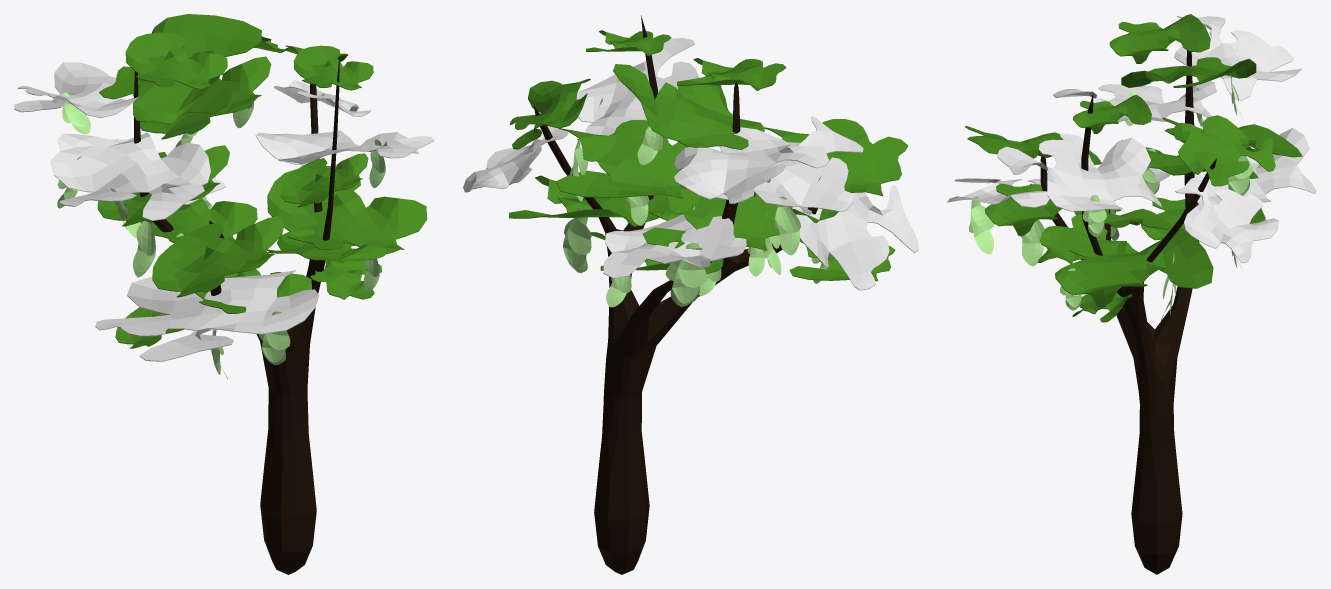
Rendered from Cynometra_ramiflora_3.fbx.
3 renders of one model, left to right at view 1: azimuth 30°, elevation 25°; view 2: azimuth 150°, elevation 25°; view 3: azimuth 270°, elevation 25°, orthographic. The views are drawn at different scales.
Visible parts, largest first — view 1: Cube; view 2: Cube; view 3: Cube.
Boxes of the visible parts, box(x1,y1,x2,y2) form: Cube: box(14, 14, 434, 574); Cube: box(463, 15, 918, 574); Cube: box(947, 14, 1316, 574).
Size of the model in its own units: 1051 by 1562 by 1046.
